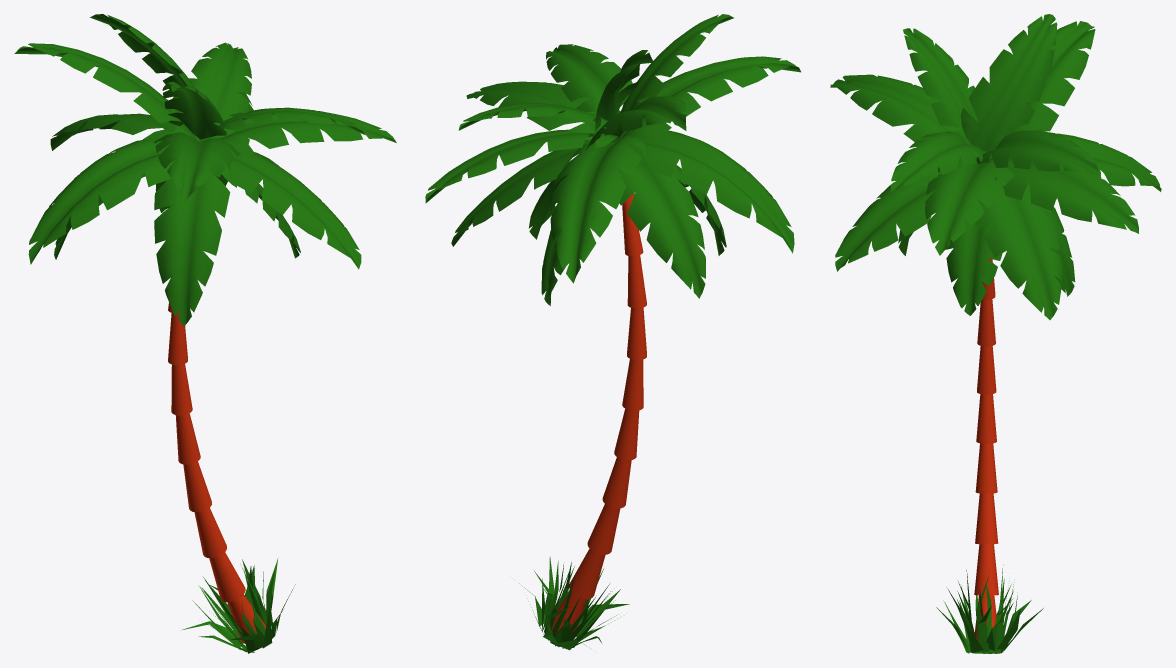
File: Fbx_PalmTree.FBX
3 views of the same model, side by side, from view 1: azimuth 30°, elevation 25°; view 2: azimuth 150°, elevation 25°; view 3: azimuth 270°, elevation 25° (orthographic). The views are drawn at different scales.
Visible parts, largest first — view 1: PalmTree006; view 2: PalmTree006; view 3: PalmTree006.
Part boxes in pixels (box(x1,y1,x2,y2)): PalmTree006: box(14, 14, 396, 653); PalmTree006: box(425, 14, 800, 650); PalmTree006: box(830, 14, 1161, 653).
Bounding box in the file's own units: 173 × 306 × 156.
